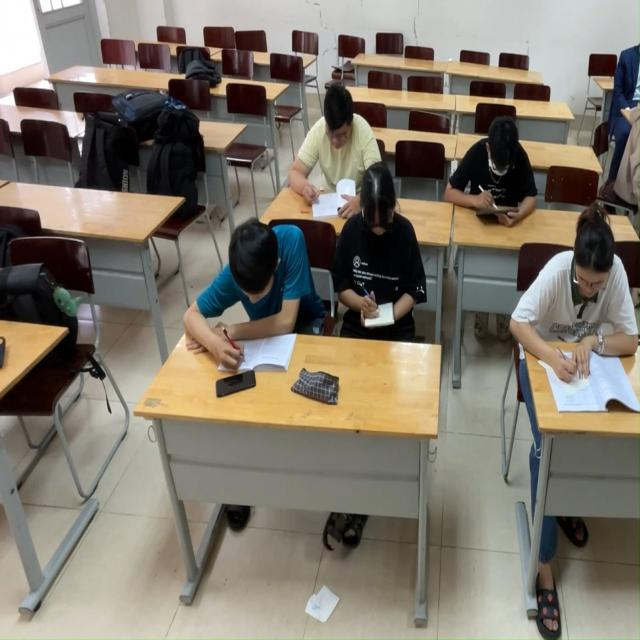read: (511, 223, 640, 412), (185, 218, 310, 382), (342, 186, 437, 338), (441, 114, 542, 228), (289, 89, 367, 221)
